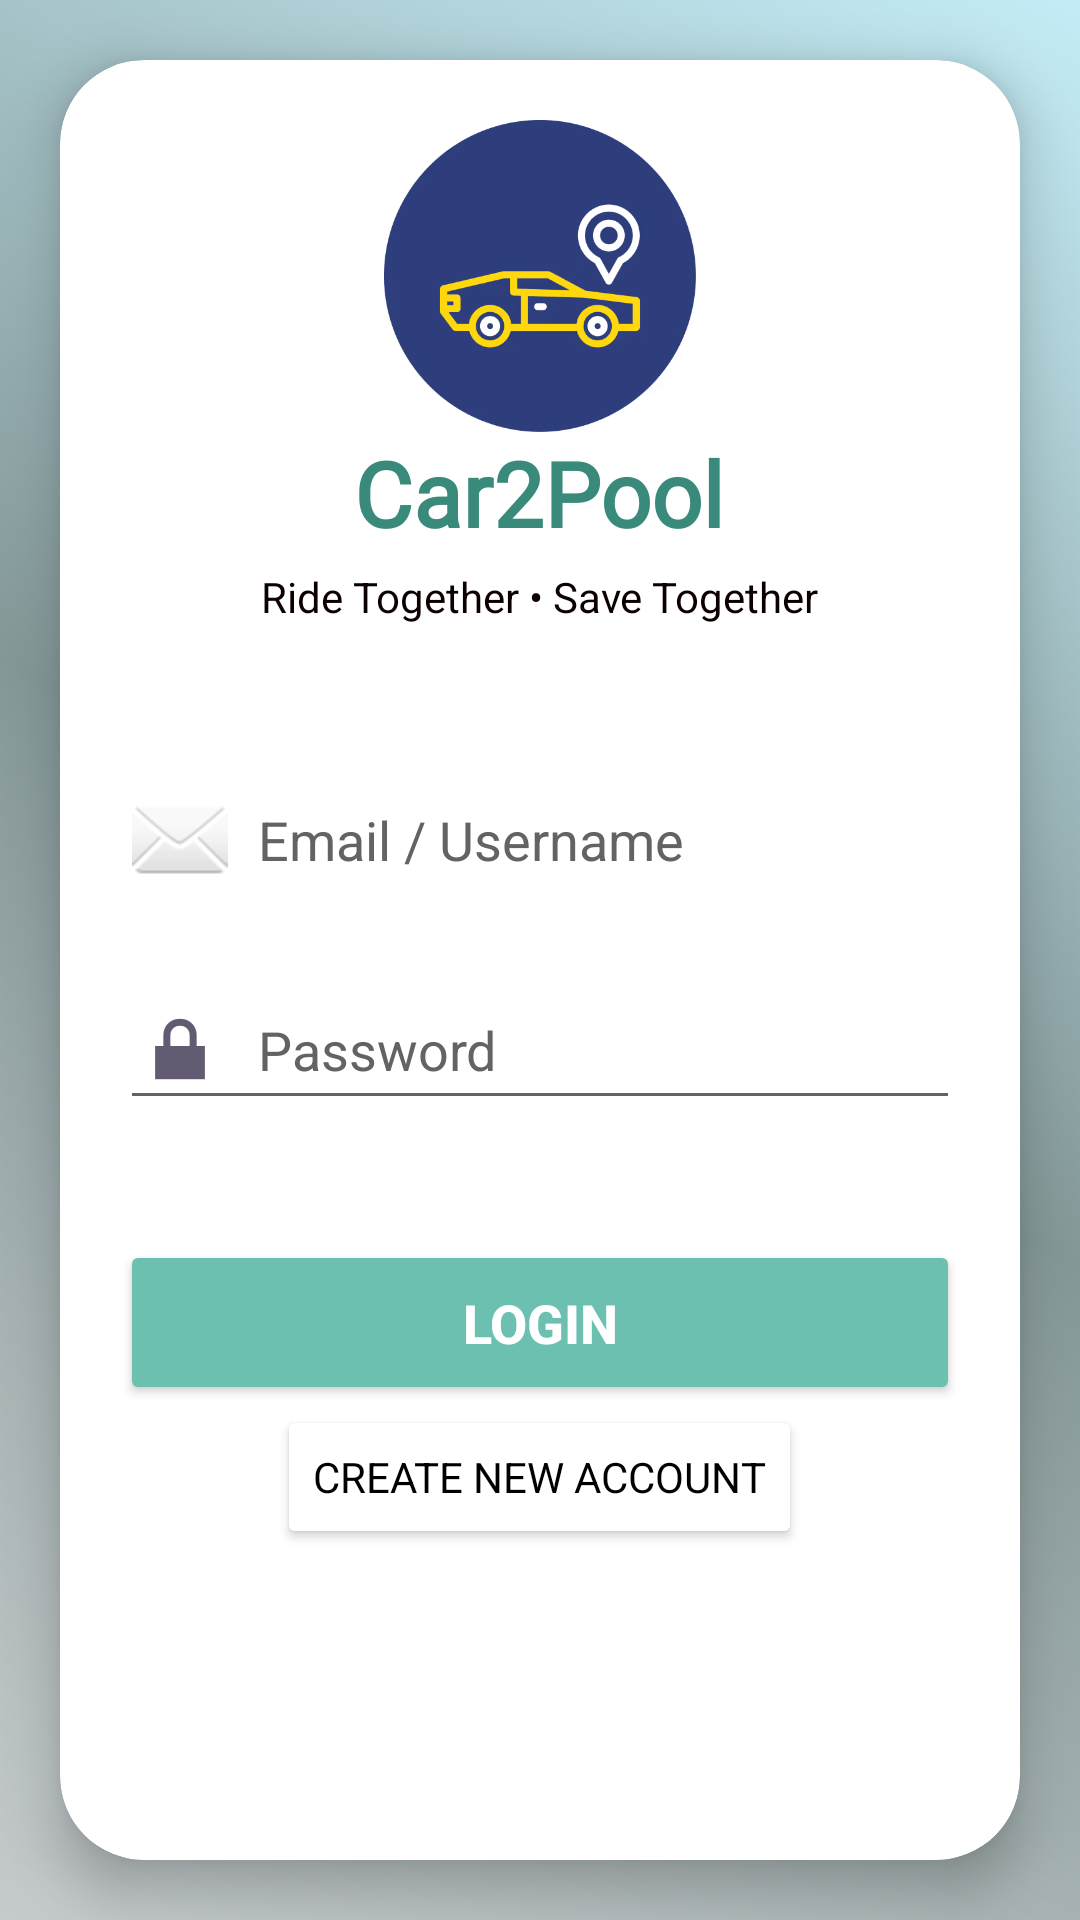

Named icons in this screenshot (1080w x 1920h) and their bounding boxes, (x1=x1, y1=y1, x2=x2, y2=y2):
app: (x1=384, y1=120, x2=696, y2=432)
